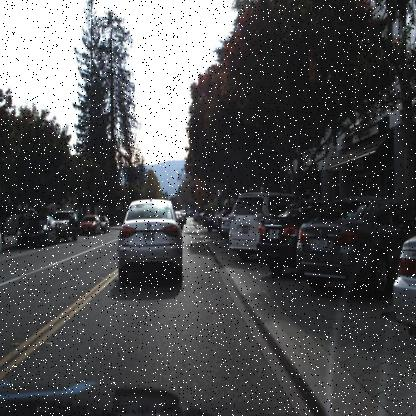car: (297, 192, 394, 288), (118, 198, 182, 291), (256, 195, 301, 275), (257, 203, 297, 272), (226, 189, 260, 264), (394, 230, 416, 344), (229, 193, 257, 255), (15, 215, 57, 246), (51, 207, 83, 243), (57, 208, 78, 240), (78, 212, 102, 238), (80, 214, 100, 234), (100, 215, 110, 234)
